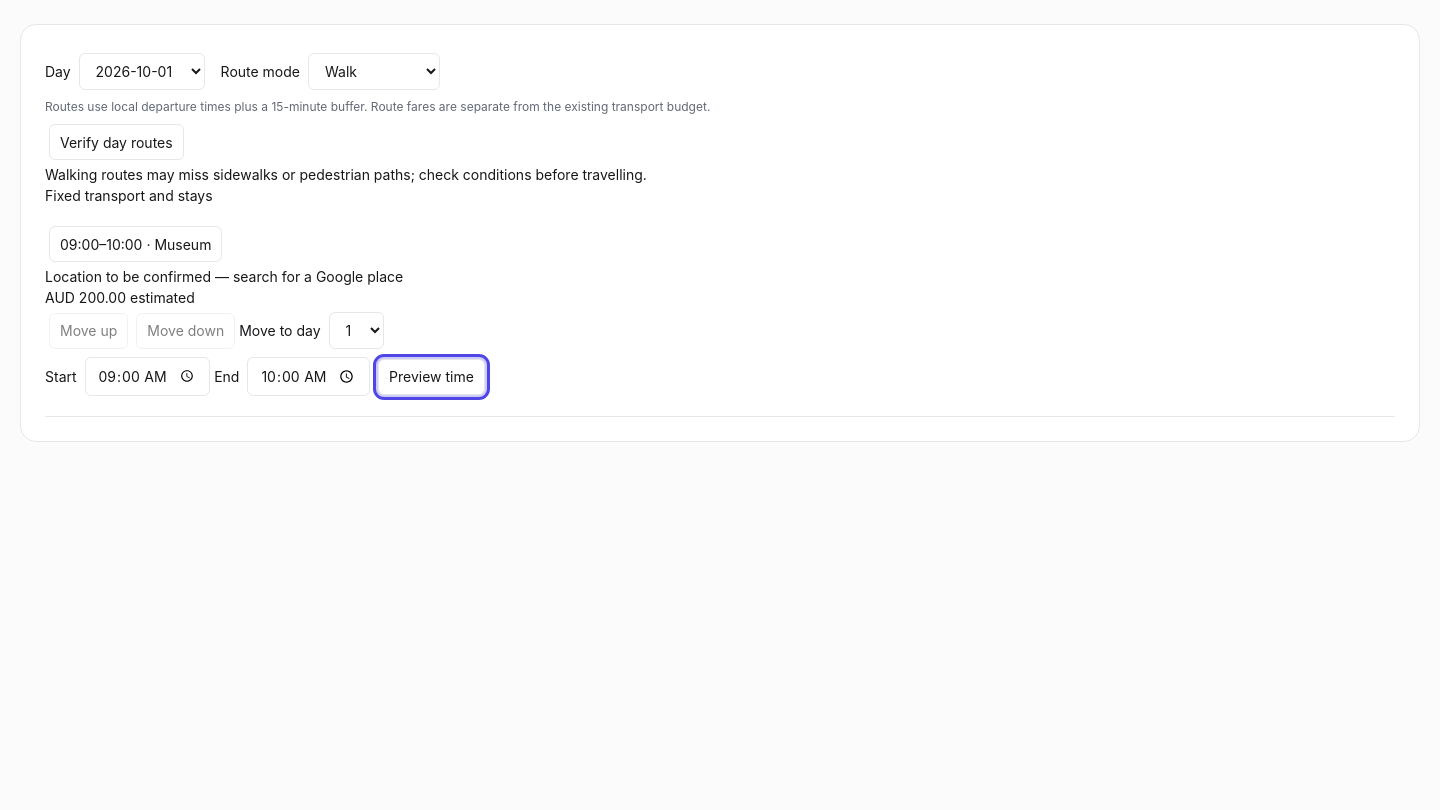
Test: editor request lifecycle › Escape cancels only the preview and restores keyboard focus
The width and height of the screenshot is (1440, 810).
Click the button "Preview time". click: [432, 376]
box: left=378, top=358, right=485, bottom=394
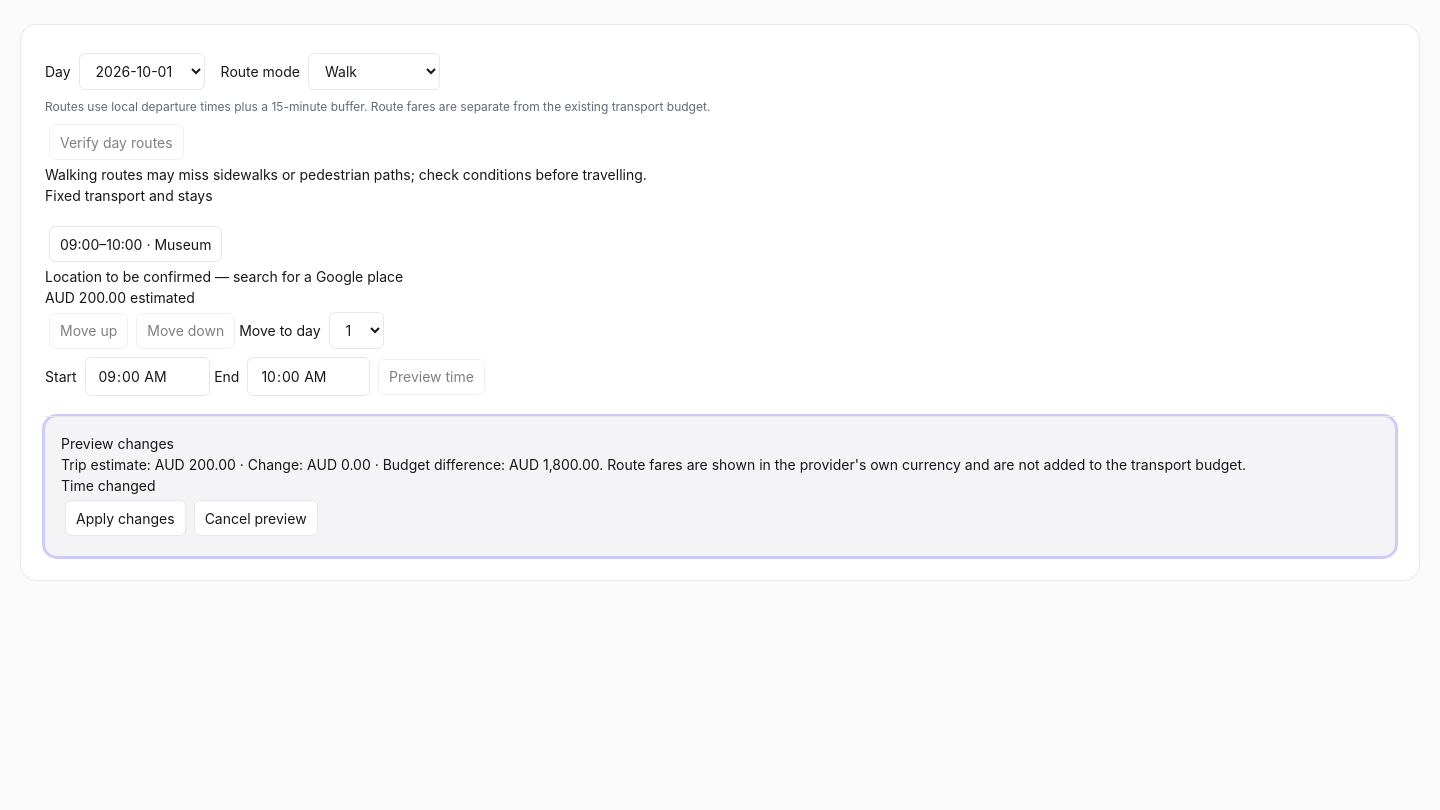
Expected: the button "Apply changes" is shown, left=65, top=500, right=186, bottom=536
Press Escape in the element named "Edit preview", box left=45, top=417, right=1395, bottom=556
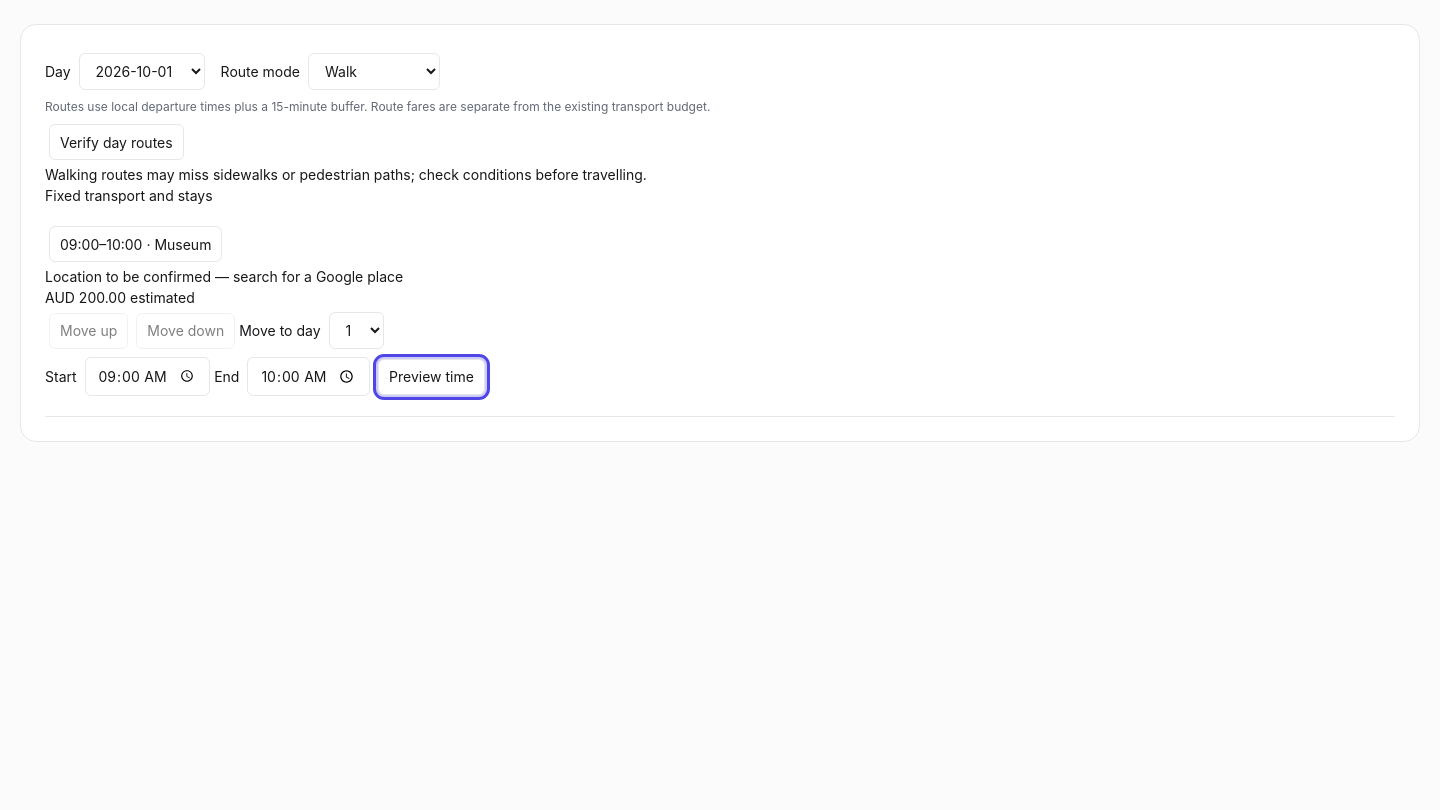
Expected: the button "Apply changes" is gone
